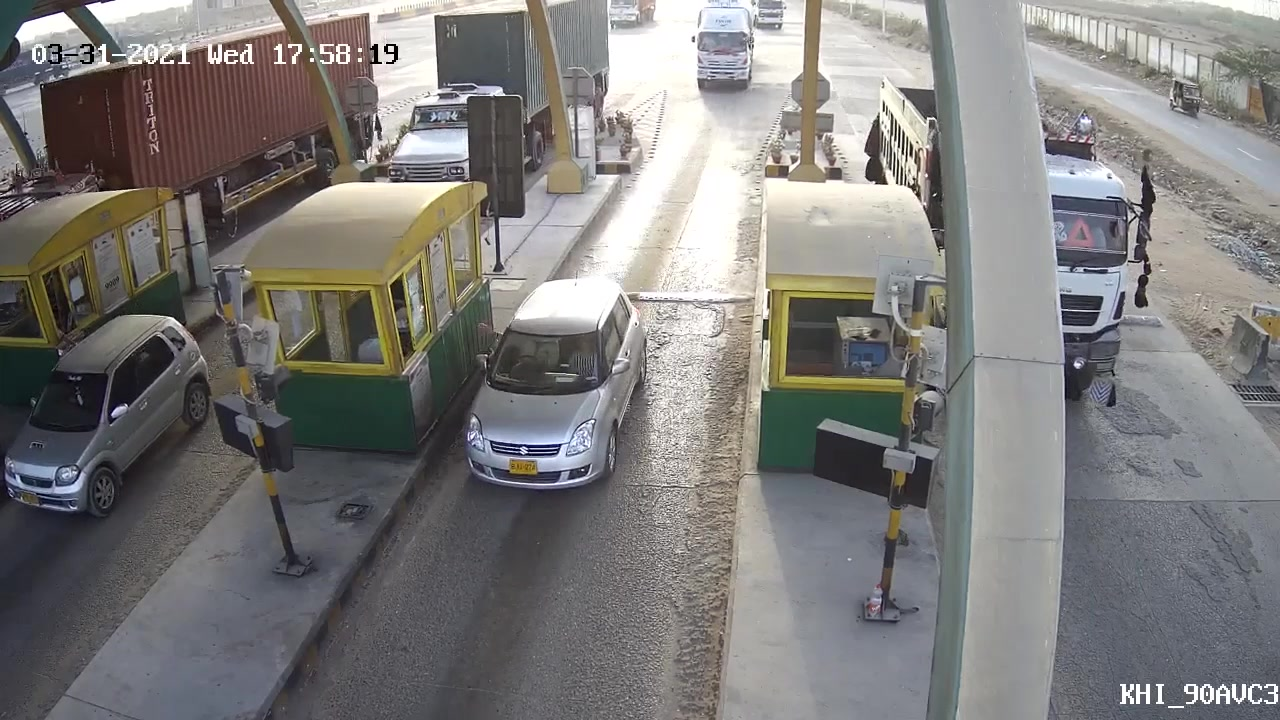F1: (452, 270, 664, 497)
